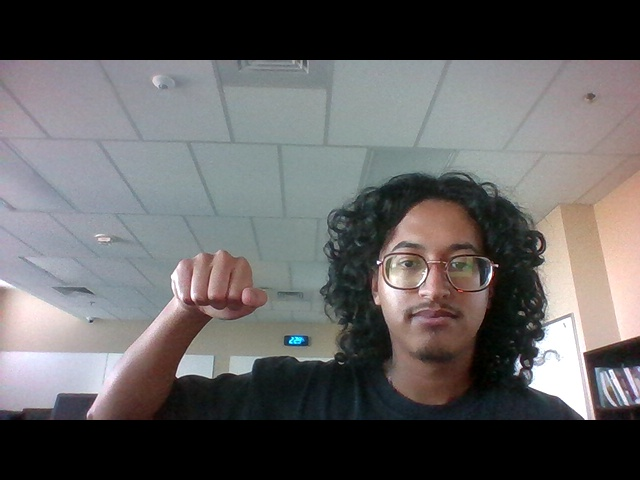yes: (163, 238, 292, 345)
